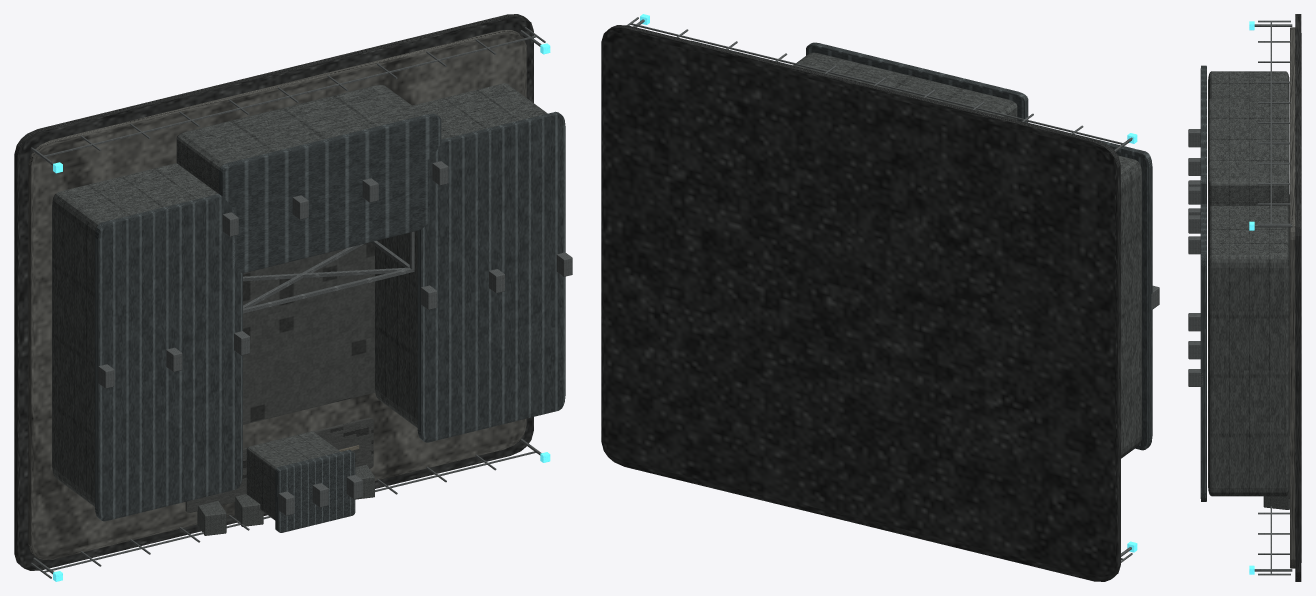
The model's file is b-13-barracks-lod0.glb.
3 renders of one model, left to right at view 1: azimuth 30°, elevation 25°; view 2: azimuth 150°, elevation 25°; view 3: azimuth 270°, elevation 25°, orthographic. The views are drawn at different scales.
Visible parts, largest first — view 1: barracks_west_roof, foundation_inner_pad, barracks_east_roof, barracks_north_roof, primary_drill_square, foundation, barracks_west_main_hall, barracks_east_main_hall, barracks_north_main_hall, guard_post_roof, guard_post_main_hall, barracks_entry_road (+5 smaller); view 2: foundation, barracks_west_main_hall, barracks_north_main_hall, barracks_west_roof, barracks_north_roof; view 3: barracks_east_main_hall, barracks_north_main_hall, foundation, foundation_inner_pad, barracks_west_main_hall, barracks_east_roof, barracks_north_roof, anti_ram_barrier_2, barracks_east_roof_vent_2, barracks_west_roof_vent_2, barracks_east_roof_vent_0, barracks_east_roof_vent_1 (+6 smaller).
Boxes of the visible parts, <box> form: barracks_west_roof: <box>95,194,242,521</box>; foundation_inner_pad: <box>28,30,526,559</box>; barracks_east_roof: <box>417,111,565,442</box>; barracks_north_roof: <box>219,113,441,273</box>; primary_drill_square: <box>243,242,375,424</box>; foundation: <box>14,14,533,570</box>; barracks_west_main_hall: <box>52,163,218,506</box>; barracks_east_main_hall: <box>375,83,547,427</box>; barracks_north_main_hall: <box>176,84,424,193</box>; guard_post_roof: <box>275,450,355,532</box>; guard_post_main_hall: <box>246,431,340,520</box>; barracks_entry_road: <box>185,418,373,512</box>; foundation: <box>601,25,1120,581</box>; barracks_west_main_hall: <box>1118,155,1141,458</box>; barracks_north_main_hall: <box>793,52,1017,120</box>; barracks_west_roof: <box>1028,123,1152,450</box>; barracks_north_roof: <box>806,42,1028,122</box>; barracks_east_main_hall: <box>1208,206,1289,496</box>; barracks_north_main_hall: <box>1208,98,1289,213</box>; foundation: <box>1295,14,1301,581</box>; foundation_inner_pad: <box>1290,27,1295,568</box>; barracks_west_main_hall: <box>1208,71,1289,101</box>; barracks_east_roof: <box>1200,204,1206,501</box>; barracks_north_roof: <box>1200,92,1206,205</box>; anti_ram_barrier_2: <box>1263,495,1289,509</box>; barracks_east_roof_vent_2: <box>1188,369,1202,386</box>; barracks_west_roof_vent_2: <box>1188,236,1200,254</box>; barracks_east_roof_vent_0: <box>1188,313,1200,331</box>; barracks_east_roof_vent_1: <box>1188,341,1200,359</box>.
Size of what is drawn, in the model's own units: 16 by 13 by 3.6.
Materials: 9 (9 with a texture image).
